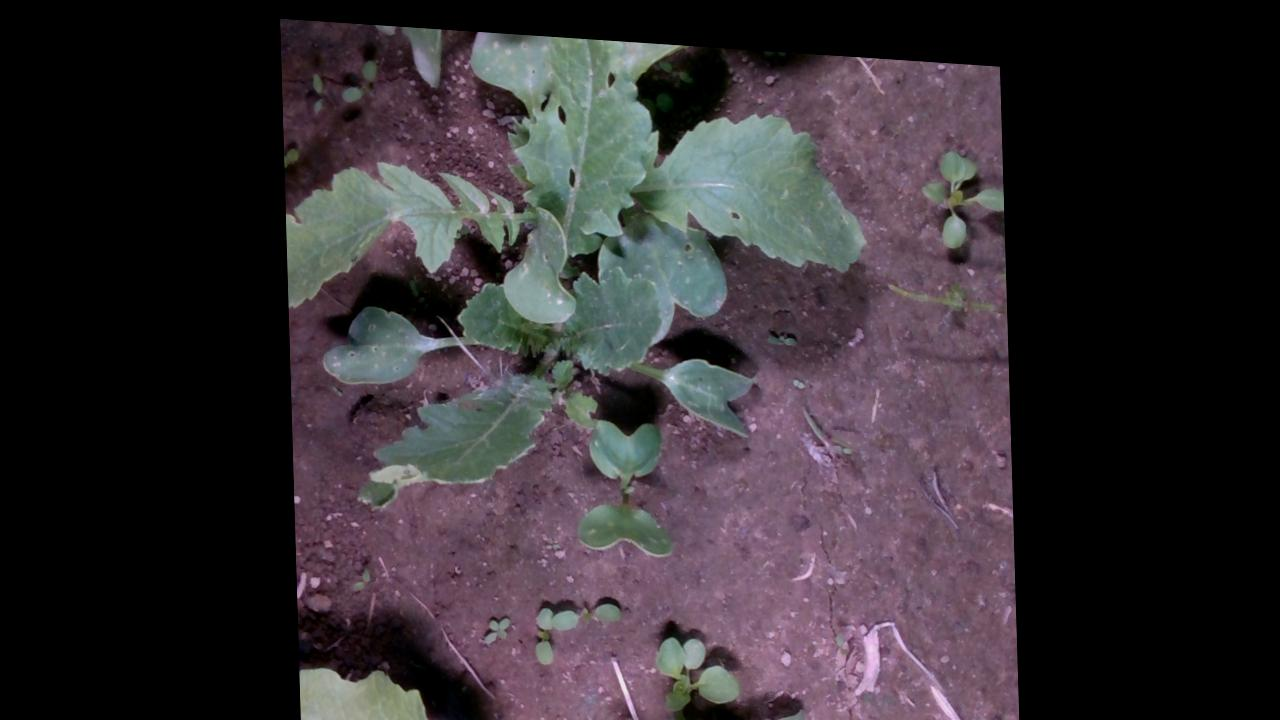weed: (474, 602, 506, 647), (309, 67, 325, 113)
